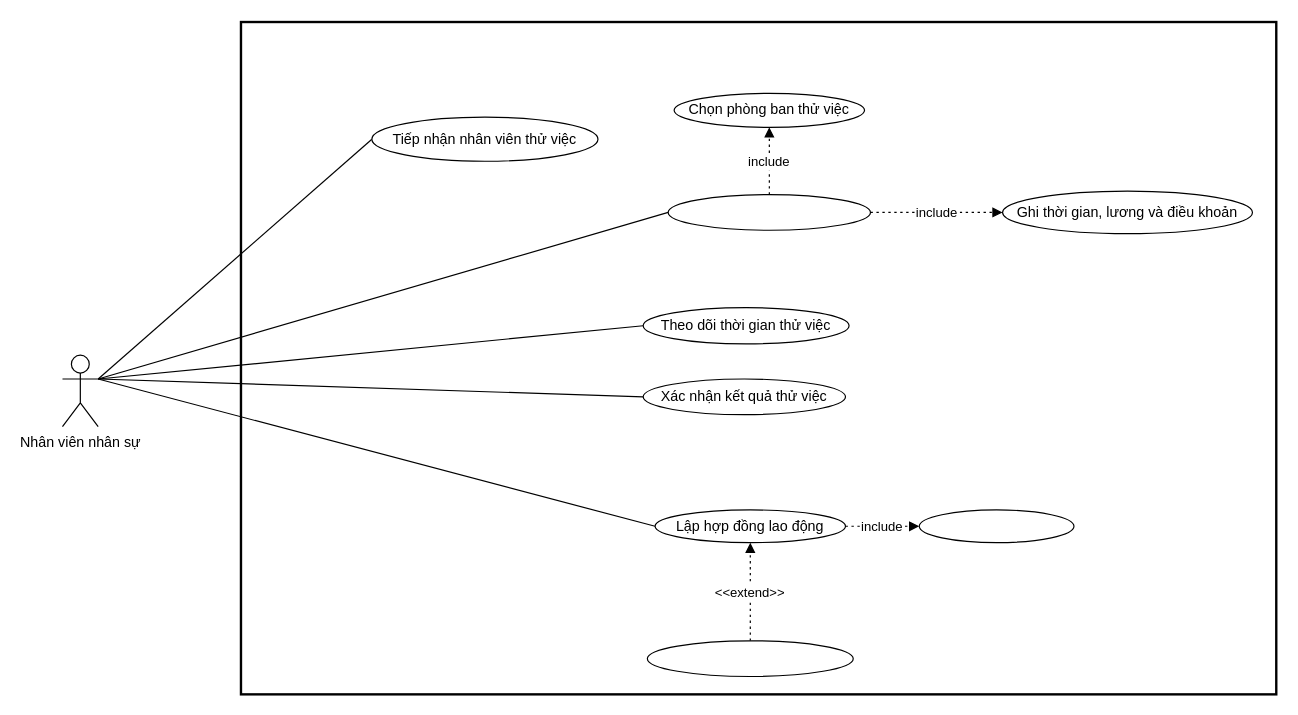
Image size: 1298x715. Some labels were removed from this diagram. Here are the shapes that lost their labels. From the top down, the box of each, then its label:
(667, 193, 870, 230): Lập quyết định tuyển dụng
(918, 509, 1074, 543): Chọn loại hợp đồng
(646, 640, 853, 677): Lập hồ sơ BHYT và BHXH
